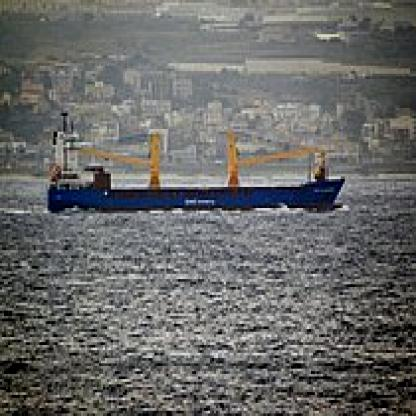Tanker: (44, 105, 360, 224)
